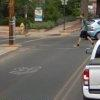Car: (77, 13, 100, 41)
